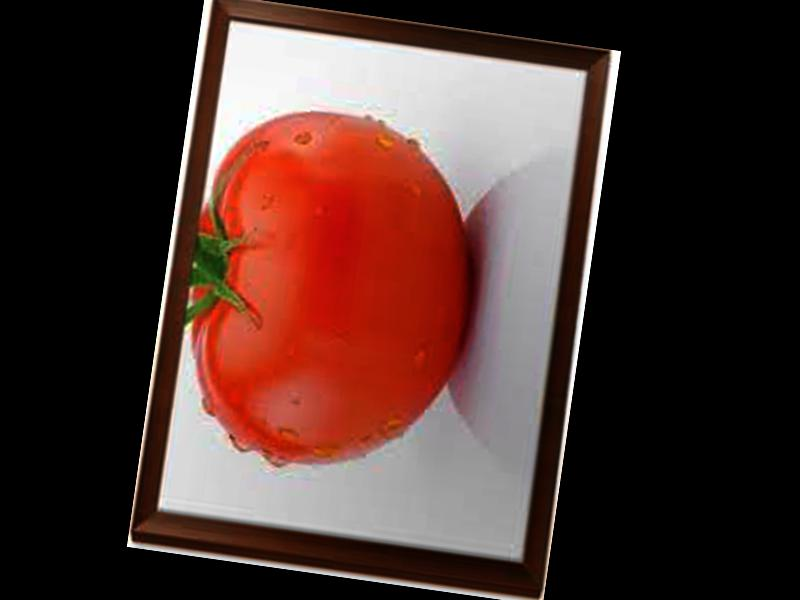Tomato: (165, 97, 494, 484)
